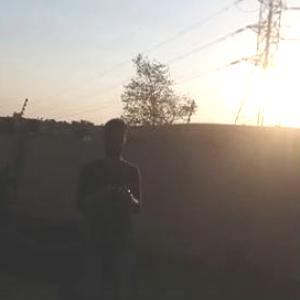follow: (72, 115, 148, 299)
